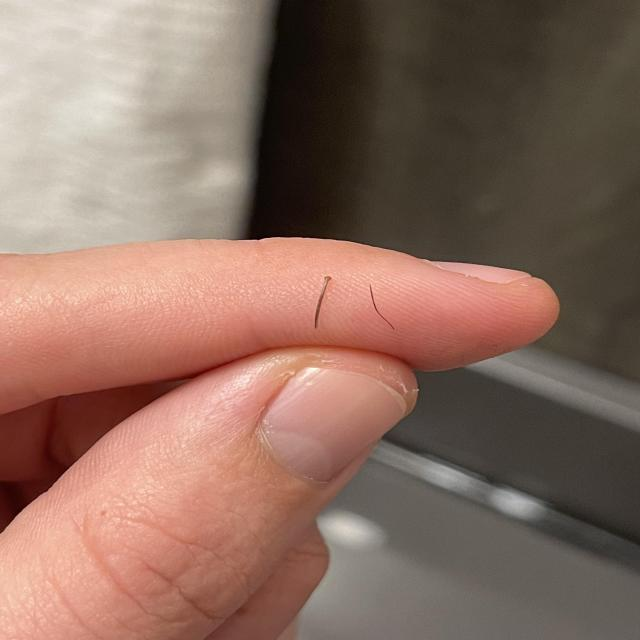hair: (366, 280, 402, 335)
